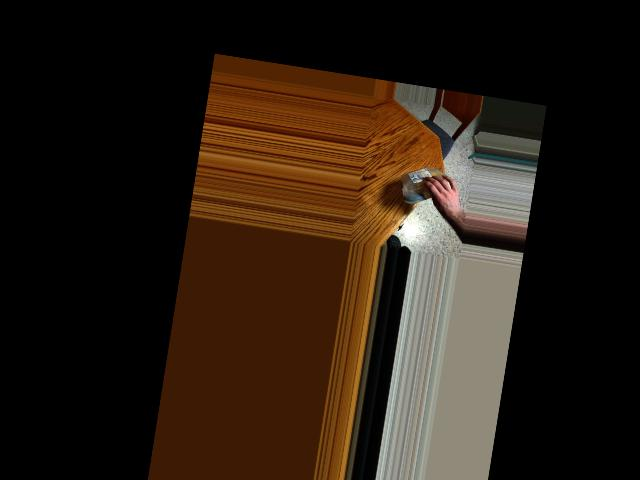cheese: (400, 168, 445, 204)
